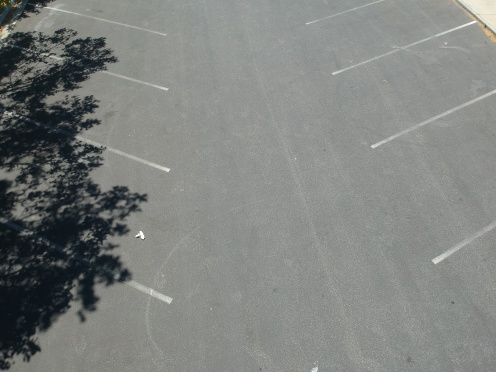plastic bag: (131, 228, 149, 242)
